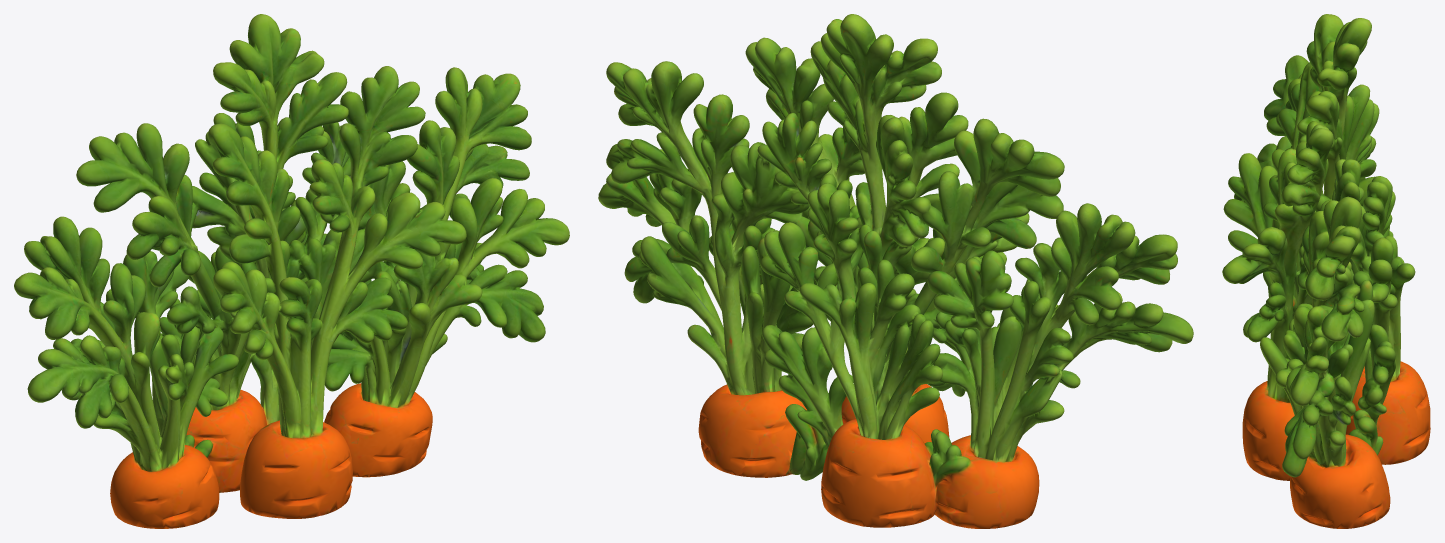
The model's file is carrot-growing.glb.
The picture shows the model from 3 angles, left to right: view 1: azimuth 30°, elevation 25°; view 2: azimuth 150°, elevation 25°; view 3: azimuth 270°, elevation 25°; orthographic projection. The views are drawn at different scales.
Size of the model in its own units: 1.9 by 1.5 by 0.6409.
1 material, 1 textured.
